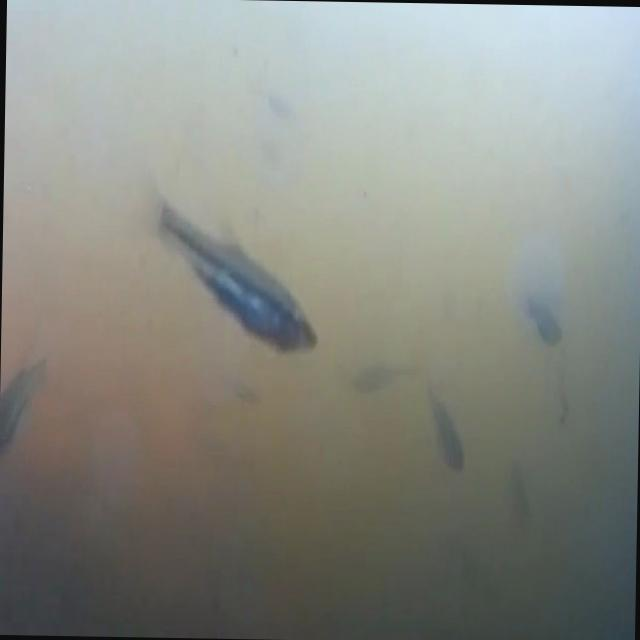Cakil Baligi: (134, 176, 323, 359)
